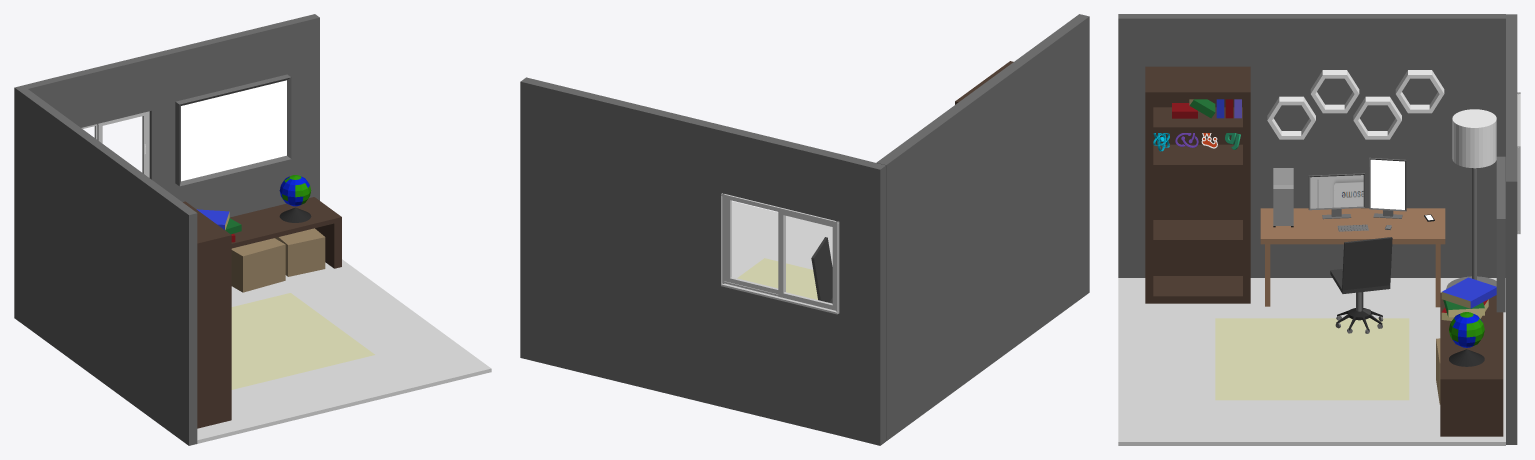
File: portfolioWithMaterials.glb
3 renders of one model, left to right at view 1: azimuth 30°, elevation 25°; view 2: azimuth 150°, elevation 25°; view 3: azimuth 270°, elevation 25°, orthographic. The views are drawn at different scales.
Visible parts, largest first — view 1: wall, windowWall, floor, tv, rug, shelf, displayBenchBoxes, displayBench, globe, textbooks, Window.R; view 2: windowWall, wall, floor, WindowFrame, rug, Window.L, chairTop, Window.R; view 3: wall, floor, shelf, rug, displayBench, tableTop, windowWall, chairTop, lamp, hMonitor, vMonitor, textbooks (+9 smaller).
Boxes of the visible parts, x1=… form: wall: x1=19, y1=89, x2=197, y2=445; windowWall: x1=14, y1=14, x2=319, y2=321; floor: x1=197, y1=259, x2=491, y2=443; tv: x1=175, y1=74, x2=291, y2=186; rug: x1=231, y1=293, x2=374, y2=389; shelf: x1=183, y1=201, x2=231, y2=428; displayBenchBoxes: x1=231, y1=228, x2=325, y2=292; displayBench: x1=229, y1=197, x2=341, y2=268; globe: x1=279, y1=175, x2=311, y2=222; textbooks: x1=197, y1=209, x2=241, y2=242; Window.R: x1=97, y1=112, x2=146, y2=175; windowWall: x1=520, y1=77, x2=885, y2=445; wall: x1=876, y1=14, x2=1089, y2=441; floor: x1=731, y1=201, x2=832, y2=278; WindowFrame: x1=721, y1=193, x2=839, y2=314; rug: x1=737, y1=258, x2=817, y2=299; Window.L: x1=778, y1=210, x2=835, y2=310; chairTop: x1=811, y1=237, x2=832, y2=303; Window.R: x1=726, y1=197, x2=785, y2=294; wall: x1=1118, y1=14, x2=1505, y2=277; floor: x1=1118, y1=278, x2=1505, y2=445; shelf: x1=1145, y1=66, x2=1250, y2=303; rug: x1=1215, y1=318, x2=1409, y2=400; displayBench: x1=1440, y1=292, x2=1503, y2=436; tableTop: x1=1260, y1=208, x2=1445, y2=244; windowWall: x1=1506, y1=14, x2=1517, y2=444; chairTop: x1=1330, y1=237, x2=1392, y2=330; lamp: x1=1446, y1=109, x2=1496, y2=288; hMonitor: x1=1308, y1=173, x2=1364, y2=219; vMonitor: x1=1369, y1=157, x2=1406, y2=218; textbooks: x1=1441, y1=277, x2=1496, y2=320.
Size of the model in its own units: 4.12 by 3 by 4.15.
Materials: 35 (1 with a texture image).
